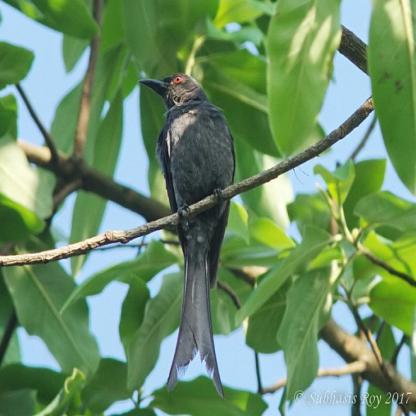Burung: (138, 66, 236, 388)
